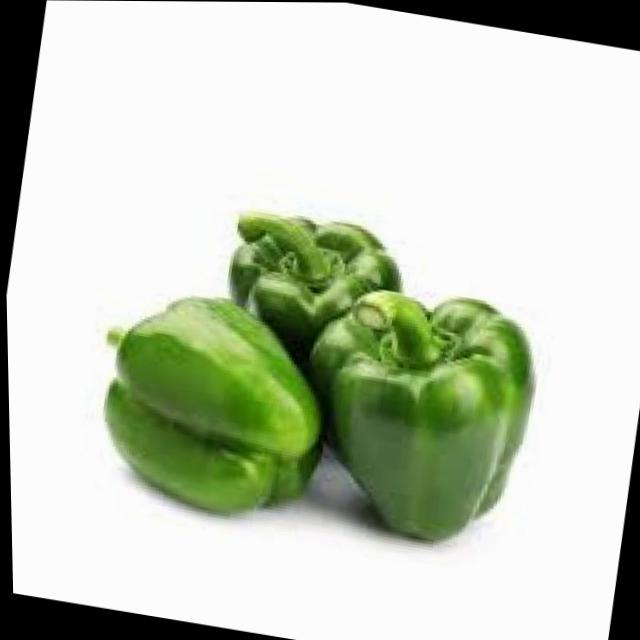Capsicum: (290, 272, 543, 549), (80, 282, 342, 530), (216, 206, 409, 346)
